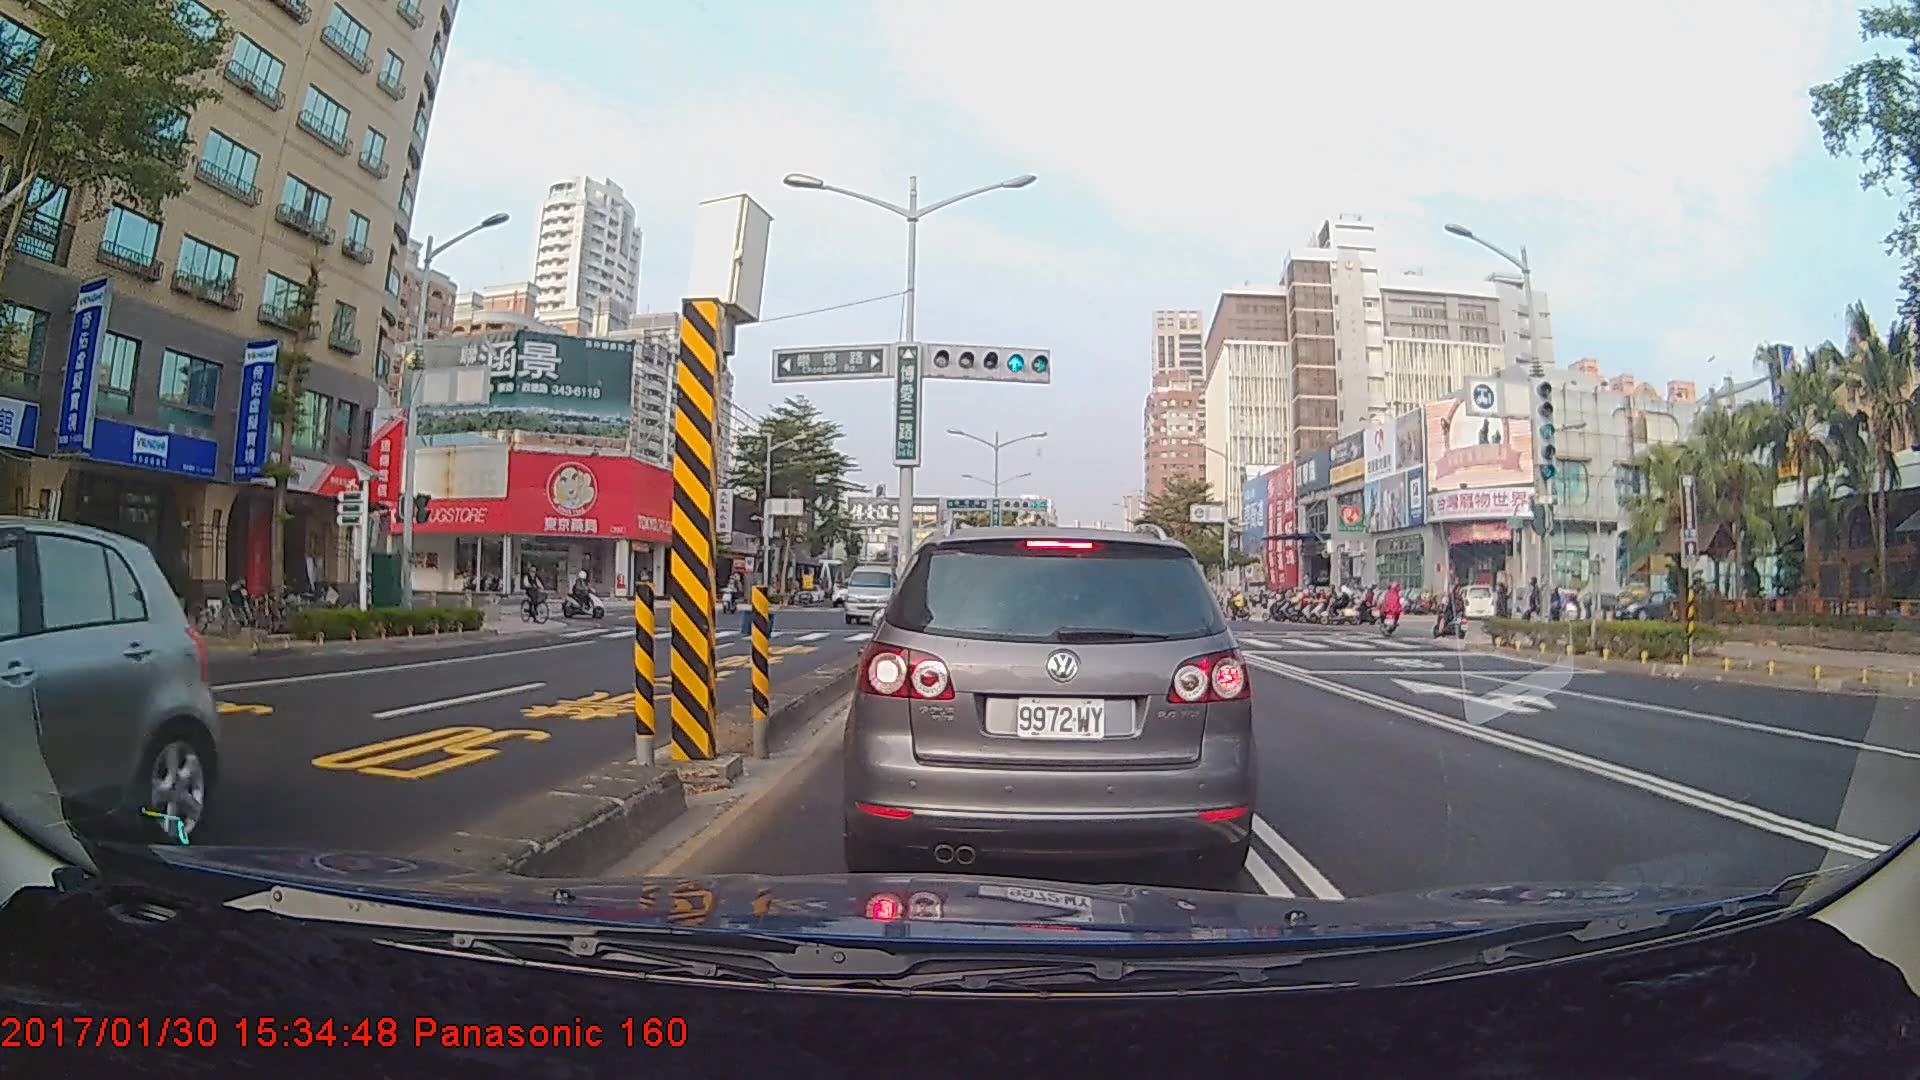pedestrian: (1493, 579, 1517, 637)
rider: (563, 568, 615, 625), (518, 559, 559, 629), (1436, 582, 1473, 646), (1382, 580, 1411, 640)
vehicle: (853, 521, 1247, 887), (0, 516, 219, 854), (842, 554, 903, 623)
